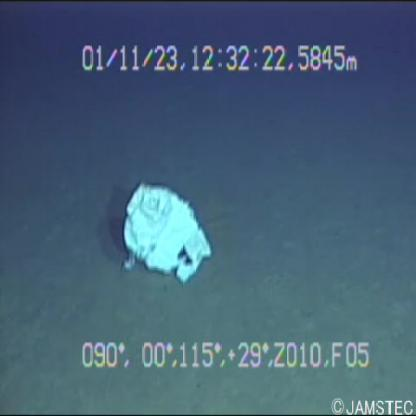Rác: (112, 176, 224, 284)
